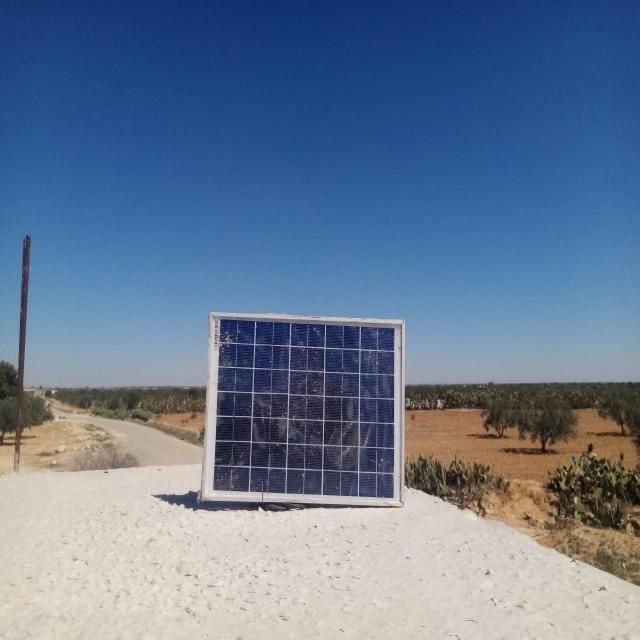faulty: (202, 314, 403, 504)
